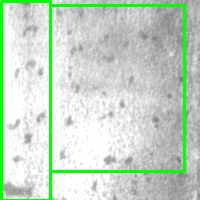pitted_surface: (50, 5, 184, 171), (1, 1, 50, 200)
